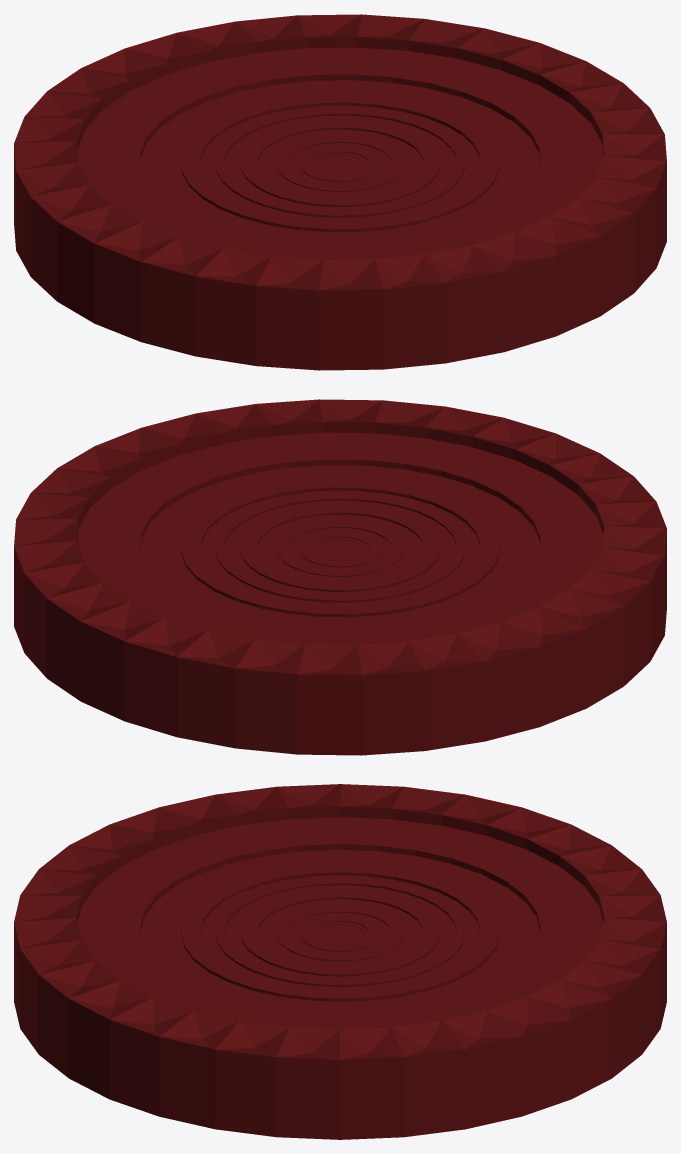
Rendered from checker.glb.
3 views of the same model, one above another, from view 1: azimuth 30°, elevation 25°; view 2: azimuth 150°, elevation 25°; view 3: azimuth 270°, elevation 25° (orthographic).
Parts seen in each view (by area): view 1: Cylinder; view 2: Cylinder; view 3: Cylinder.
Boxes of the visible parts, x1=… form: Cylinder: x1=14, y1=14, x2=666, y2=370; Cylinder: x1=14, y1=399, x2=666, y2=755; Cylinder: x1=14, y1=784, x2=666, y2=1139.
Bounding box in the file's own units: 0.6444 × 0.0957 × 0.6444.
